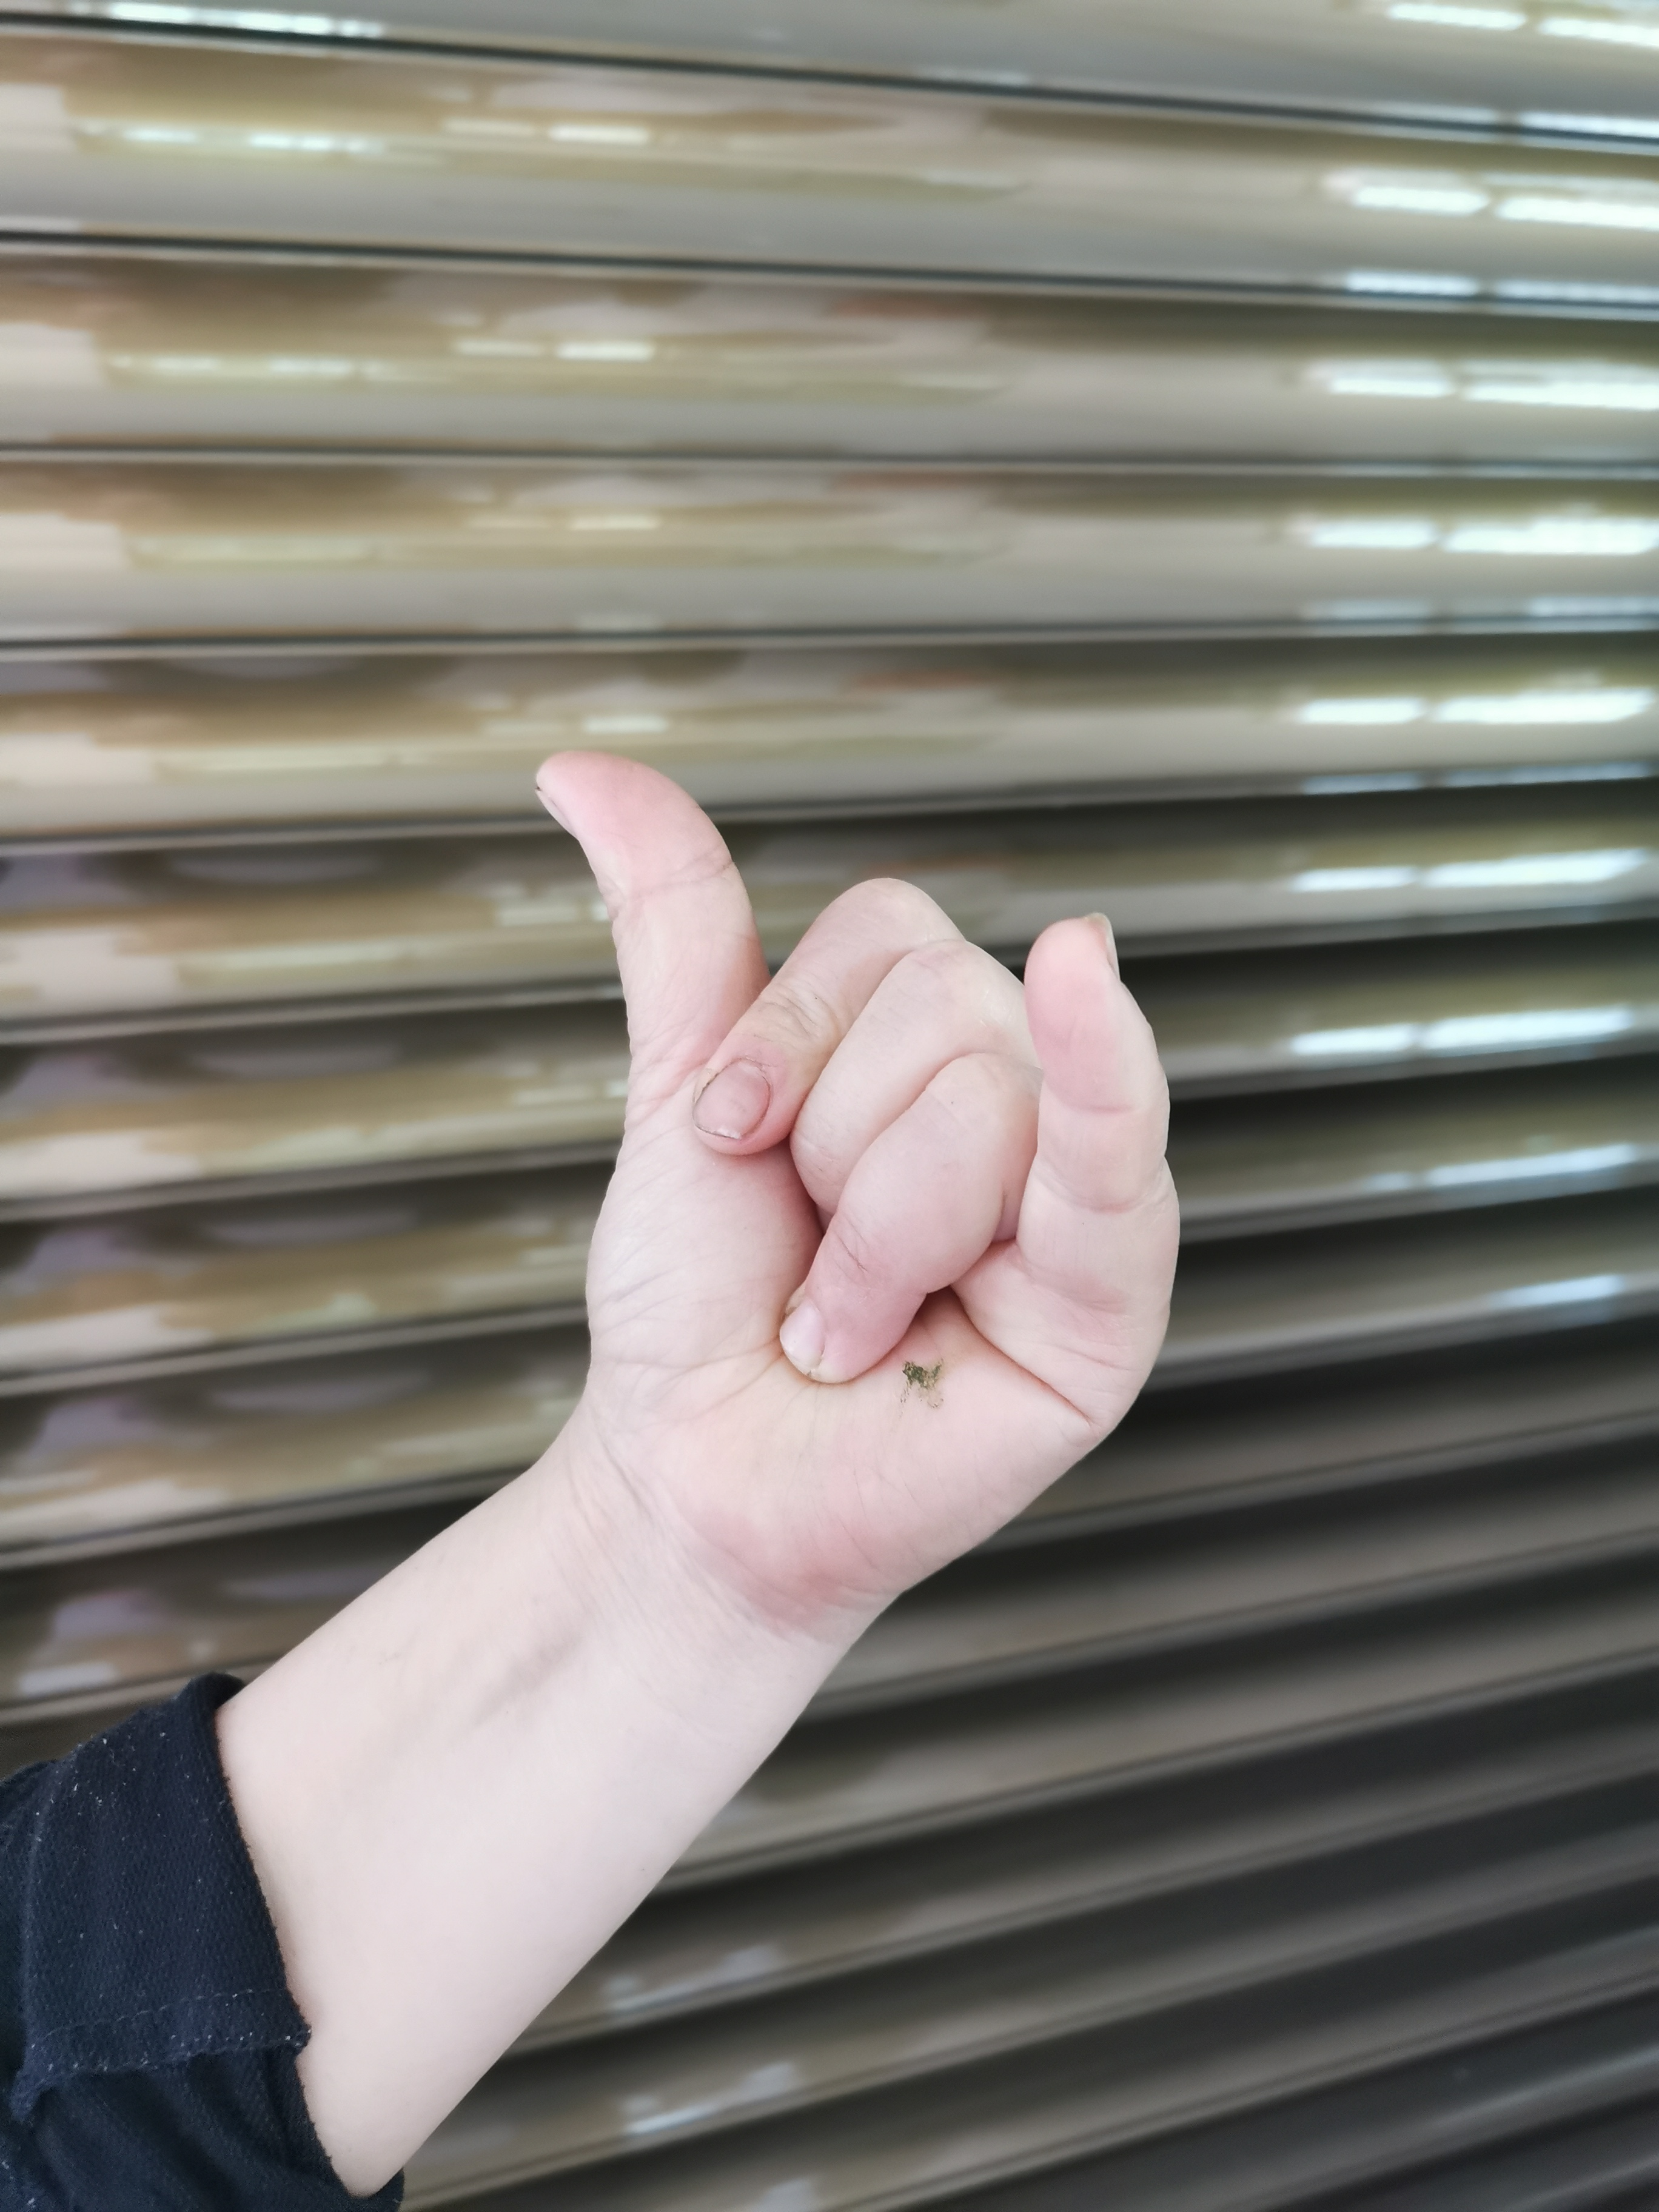clockwise: (521, 745, 1192, 1564)
